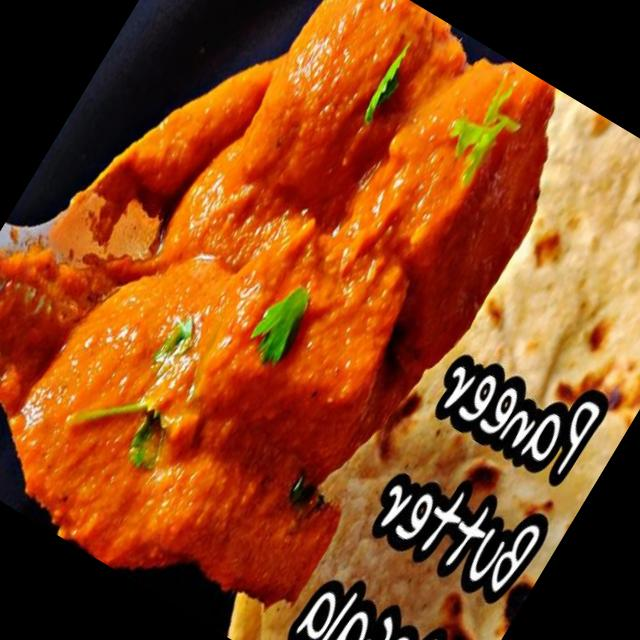roti: (483, 128, 640, 390)
